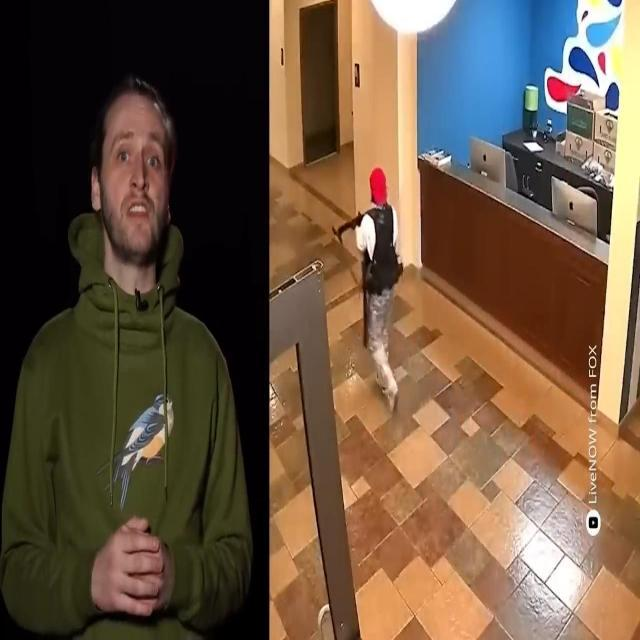pistol: (358, 262, 374, 349), (330, 208, 366, 240)
